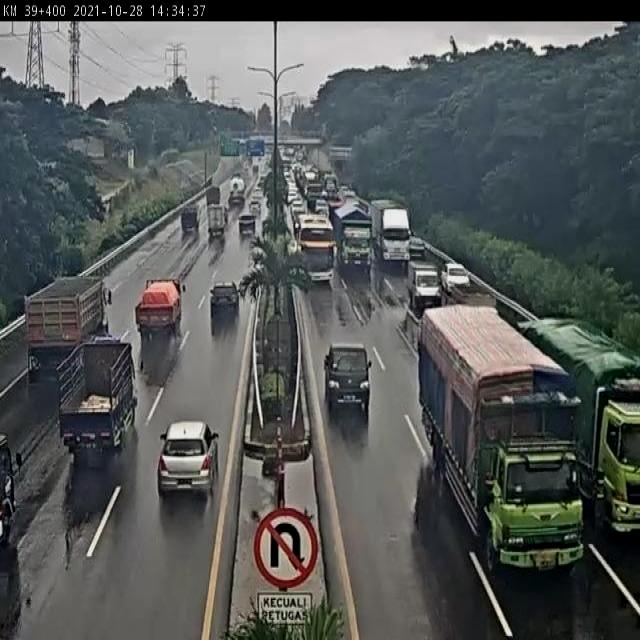Bus: (297, 215, 336, 281)
Car: (156, 421, 218, 496), (209, 281, 239, 326), (441, 262, 472, 290), (238, 213, 256, 236), (290, 198, 305, 220), (315, 198, 329, 218), (286, 190, 298, 207)
Truck: (420, 304, 578, 569), (515, 312, 640, 543), (57, 334, 138, 466), (22, 276, 108, 390), (323, 343, 371, 418), (330, 198, 370, 274), (136, 278, 182, 341), (371, 200, 411, 270), (408, 262, 442, 308), (206, 203, 228, 239), (180, 204, 202, 228)
